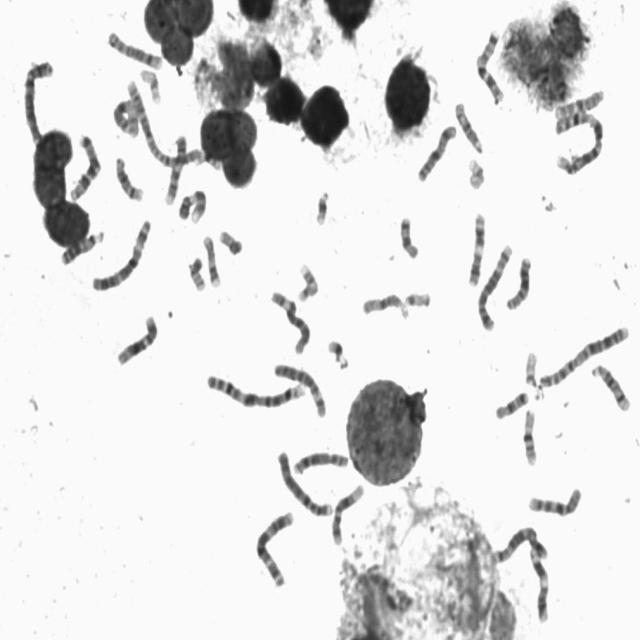A1: (203, 368, 308, 410), (551, 106, 606, 177)
A2: (123, 74, 206, 170), (535, 320, 631, 390)
A3: (89, 214, 153, 293), (251, 506, 296, 588)
B4: (274, 446, 334, 518), (20, 55, 55, 153)
B5: (474, 239, 514, 333), (486, 522, 550, 567)
C10: (525, 482, 584, 518), (551, 84, 606, 120)
C11: (525, 544, 551, 625), (465, 208, 487, 288)
C12: (113, 310, 160, 368), (328, 480, 365, 546)
C6: (270, 358, 328, 419), (268, 286, 312, 356)
C7: (66, 129, 102, 203), (473, 25, 506, 104)
C8: (104, 25, 164, 72), (290, 446, 350, 476)
C9: (162, 130, 188, 206), (174, 185, 208, 225)
D13: (58, 226, 105, 267), (503, 251, 533, 312)
D14: (588, 360, 632, 413), (112, 152, 145, 203)
D15: (452, 97, 485, 156), (359, 289, 412, 320)
E16: (520, 404, 539, 466), (188, 146, 220, 172)
E17: (200, 231, 222, 289), (295, 258, 320, 304)
E18: (492, 386, 530, 421), (397, 212, 420, 261)
F19: (137, 65, 163, 105), (464, 153, 486, 191)
F20: (216, 225, 243, 257), (186, 252, 207, 293)
G21: (324, 334, 350, 372), (312, 186, 331, 227)
G22: (521, 346, 540, 388), (401, 286, 432, 309)
X: (415, 121, 458, 184), (108, 95, 142, 140)
